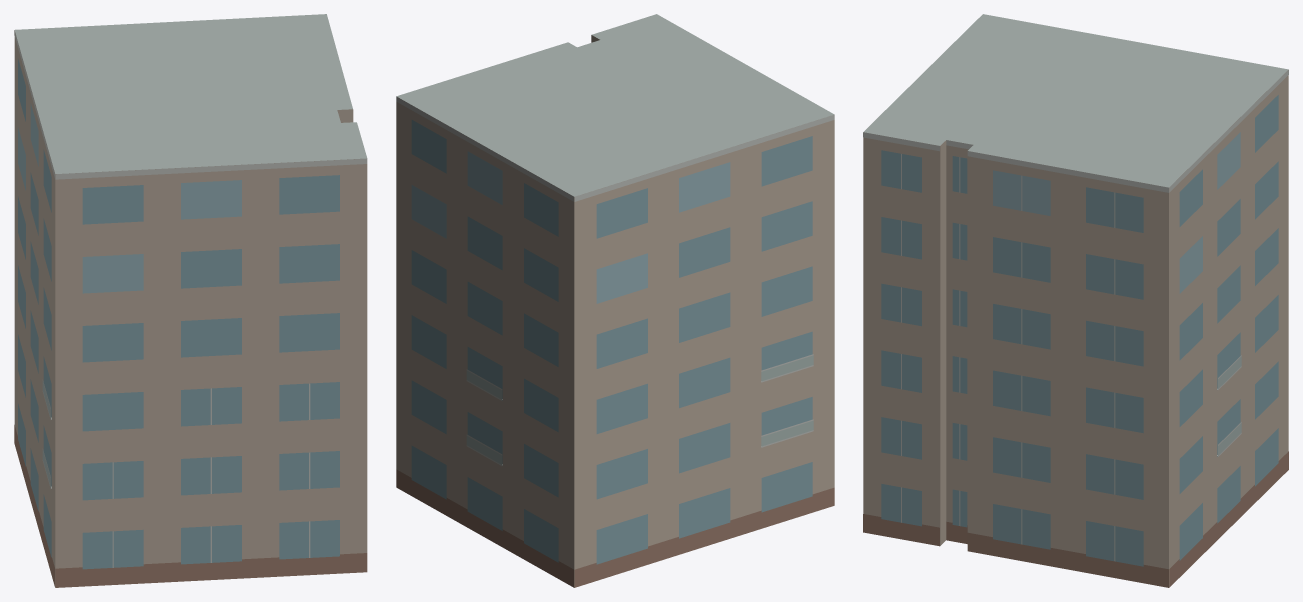
The model's file is survey-upis-32817298.glb.
3 renders of one model, left to right at view 1: azimuth 30°, elevation 25°; view 2: azimuth 150°, elevation 25°; view 3: azimuth 270°, elevation 25°, orthographic. The views are drawn at different scales.
Visible parts, largest first — view 1: survey-upis-32817298.tmp; view 2: survey-upis-32817298.tmp; view 3: survey-upis-32817298.tmp.
Part boxes in pixels (left/top/right/bottom): survey-upis-32817298.tmp: left=14, top=14, right=367, bottom=587; survey-upis-32817298.tmp: left=396, top=14, right=834, bottom=587; survey-upis-32817298.tmp: left=863, top=14, right=1288, bottom=587.
Size of the model in its own units: 17.03 by 18.3 by 17.65.
